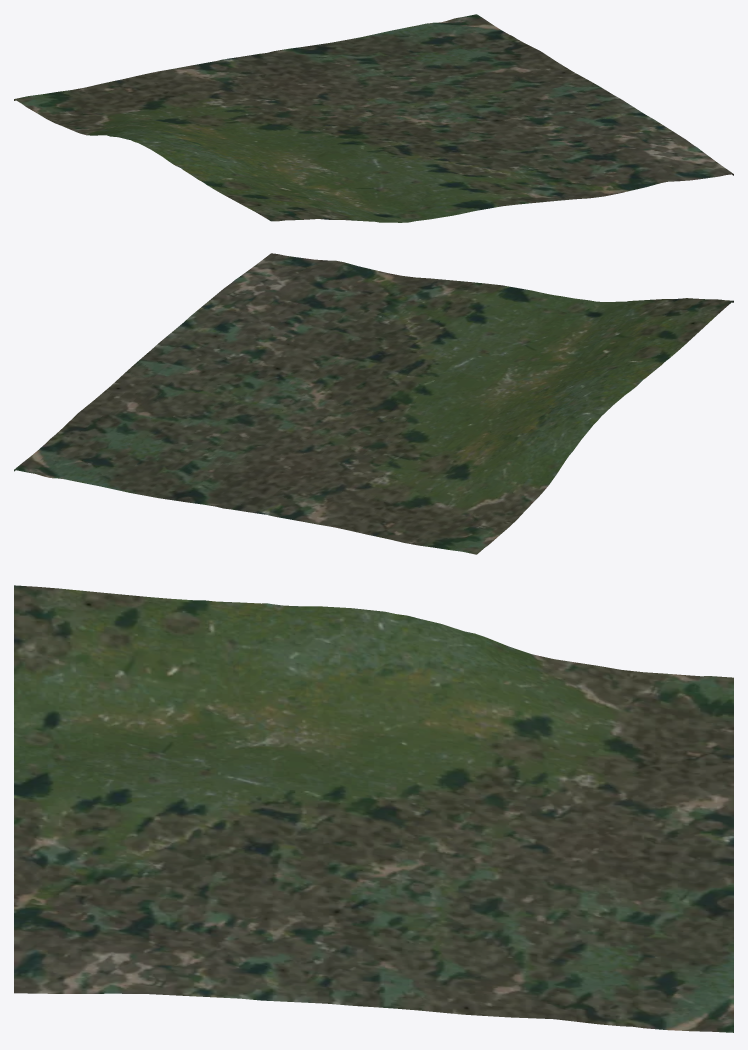
3 views of the same model, one above another, from view 1: azimuth 30°, elevation 25°; view 2: azimuth 150°, elevation 25°; view 3: azimuth 270°, elevation 25° (orthographic). The views are drawn at different scales.
Size of the model in its own units: 250 by 49.45 by 241.
1 material, 1 textured.
